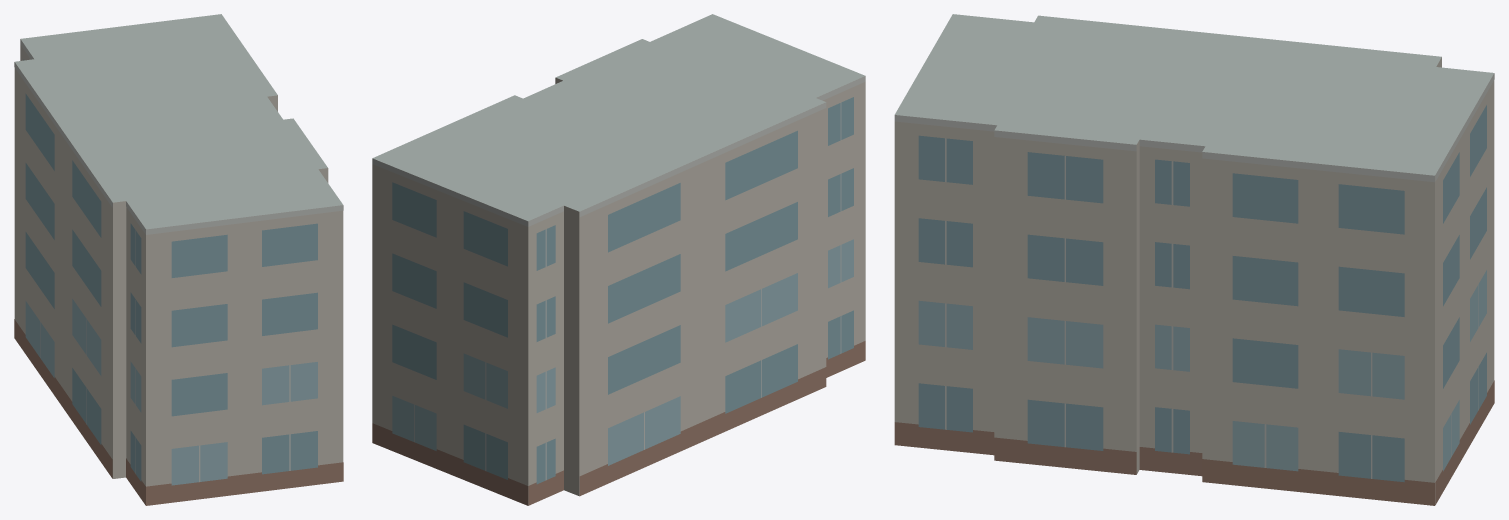
Rendered from survey-upis-32816292.glb.
3 renders of one model, left to right at view 1: azimuth 30°, elevation 25°; view 2: azimuth 150°, elevation 25°; view 3: azimuth 270°, elevation 25°, orthographic. The views are drawn at different scales.
Visible parts, largest first — view 1: survey-upis-32816292.tmp; view 2: survey-upis-32816292.tmp; view 3: survey-upis-32816292.tmp.
Part boxes in pixels (<box>): survey-upis-32816292.tmp: <box>14,14,343,505</box>; survey-upis-32816292.tmp: <box>372,14,865,505</box>; survey-upis-32816292.tmp: <box>894,14,1494,505</box>.
Bounding box in the file's own units: 12.82 × 12.2 × 20.1.
